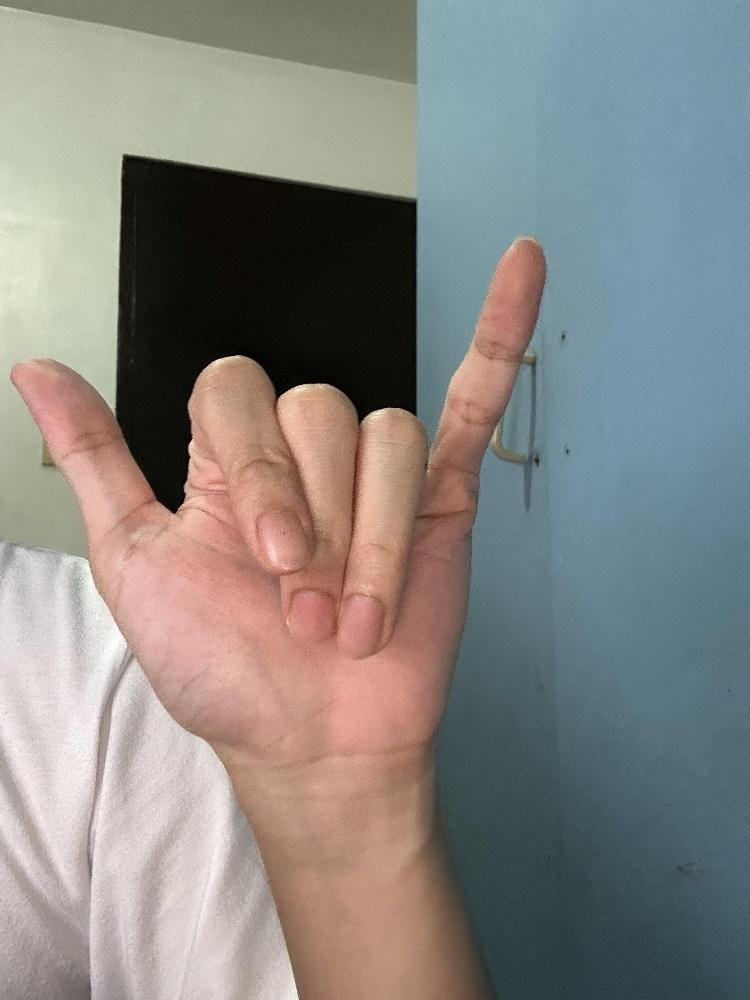y: (5, 227, 549, 789)
